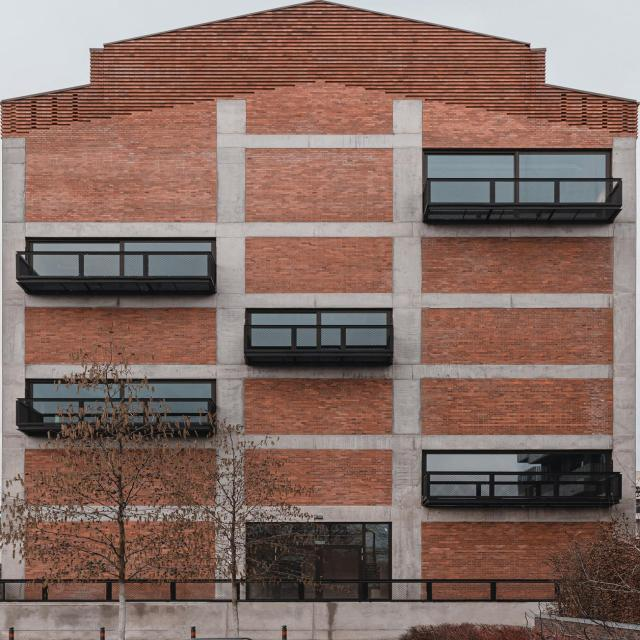Railing: (3, 579, 561, 600), (424, 471, 626, 498), (425, 178, 623, 204), (13, 252, 212, 277), (19, 398, 217, 422), (242, 325, 396, 348)
door: (315, 546, 364, 601)
plant: (0, 323, 317, 584), (391, 506, 639, 640)
wall: (0, 0, 639, 640)
windows: (244, 523, 392, 578), (424, 151, 611, 179), (423, 452, 610, 470), (27, 381, 215, 398), (249, 310, 394, 325), (31, 242, 214, 252)
